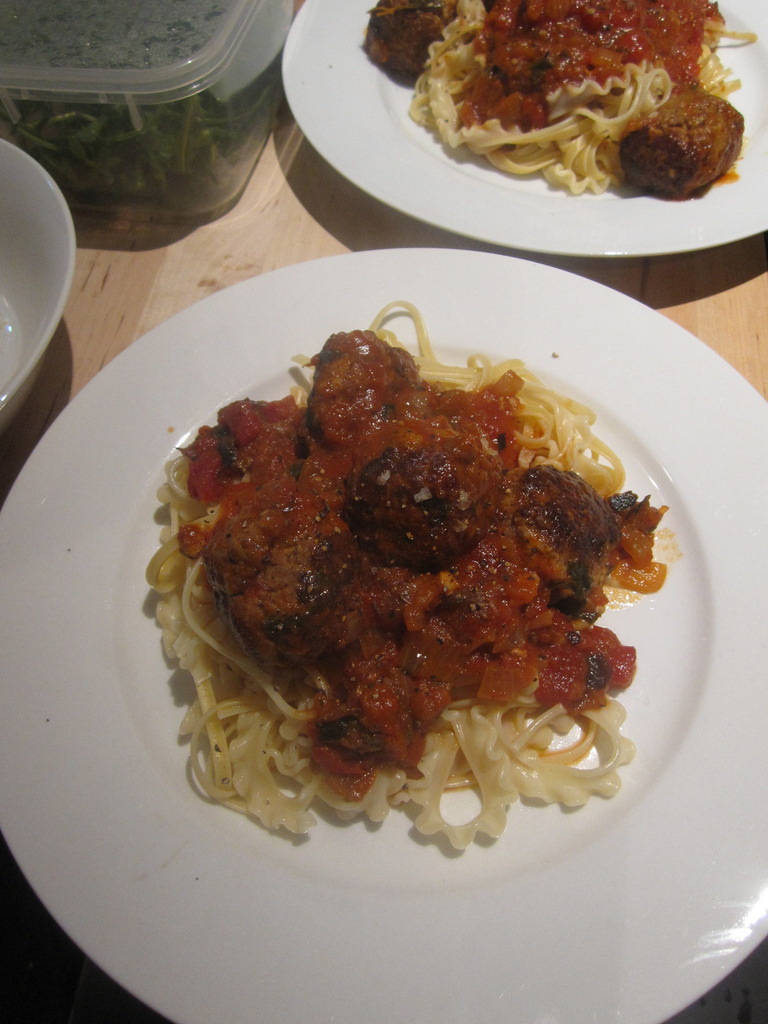meatballs: (615, 90, 760, 210), (360, 1, 438, 81)
plain spaghetti: (134, 288, 668, 856), (413, 1, 635, 199)
